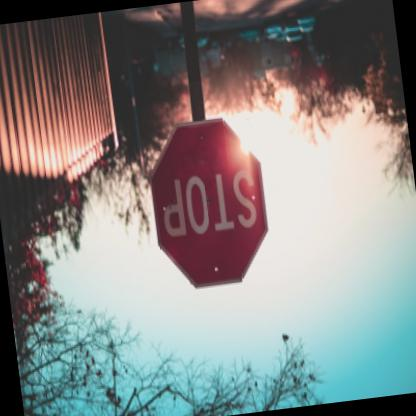stop: (143, 115, 278, 298)
